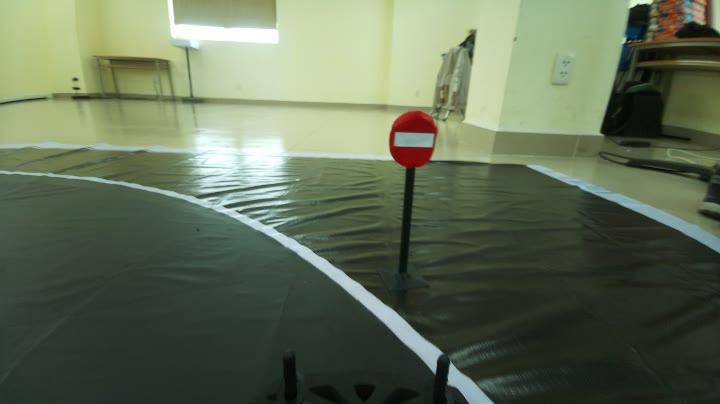no_entry: (380, 101, 439, 171)
